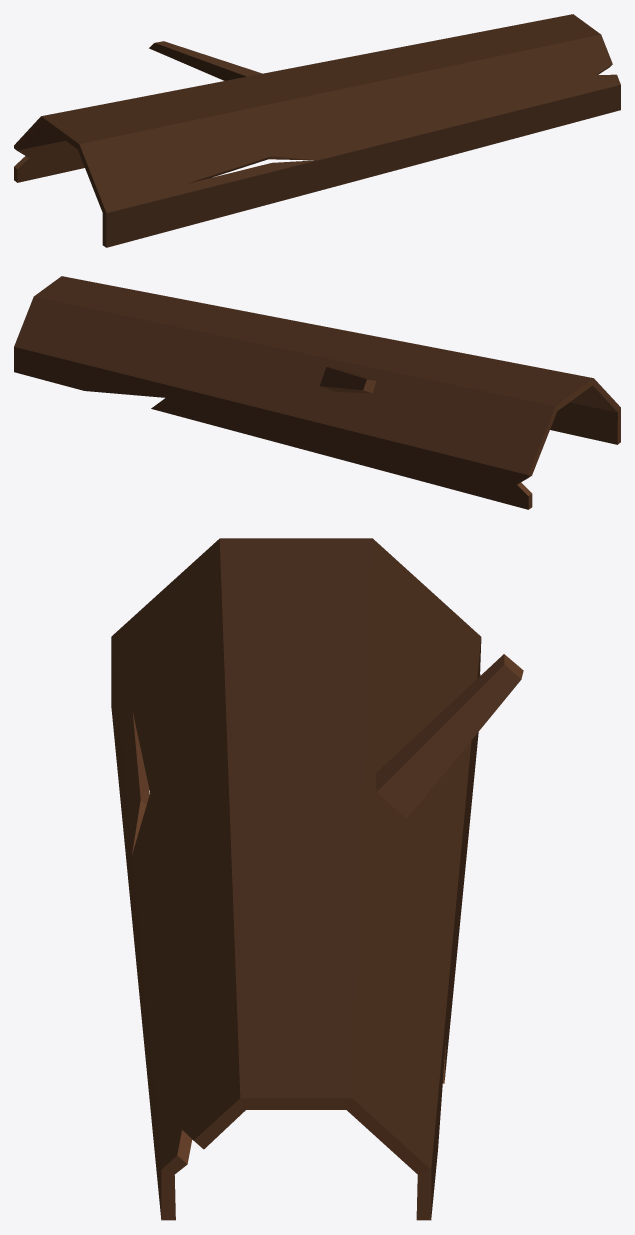
File: Log_4_Dark_Brown.fbx
3 renders of one model, top to bottom at view 1: azimuth 30°, elevation 25°; view 2: azimuth 150°, elevation 25°; view 3: azimuth 270°, elevation 25°, orthographic. The views are drawn at different scales.
Visible parts, largest first — view 1: Log_4_Dark_Brown; view 2: Log_4_Dark_Brown; view 3: Log_4_Dark_Brown.
Part boxes in pixels (box(x1,y1,x2,y2)): Log_4_Dark_Brown: box(14, 14, 620, 247); Log_4_Dark_Brown: box(14, 276, 620, 509); Log_4_Dark_Brown: box(111, 538, 523, 1220).
Size of the model in its own units: 250 by 44.2 by 84.71.
